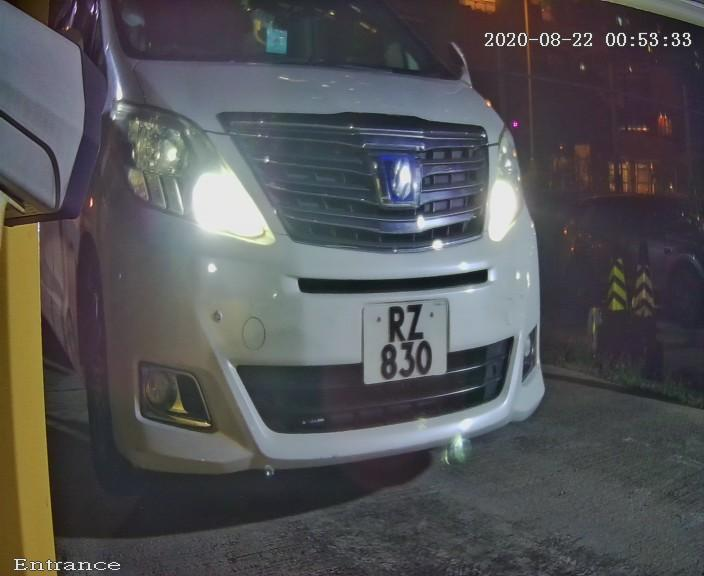Car: (45, 6, 582, 523)
License Plate: (349, 281, 459, 394)
